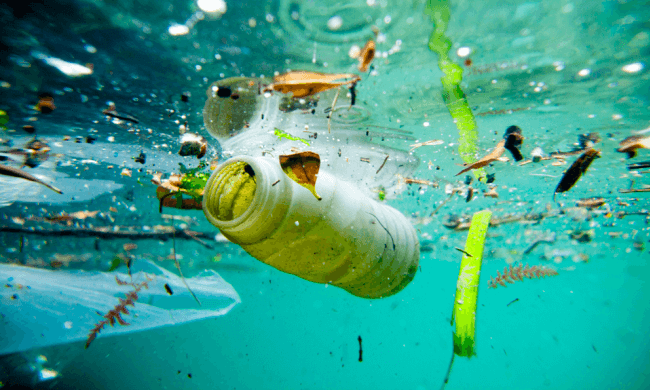litter: (169, 140, 433, 304)
